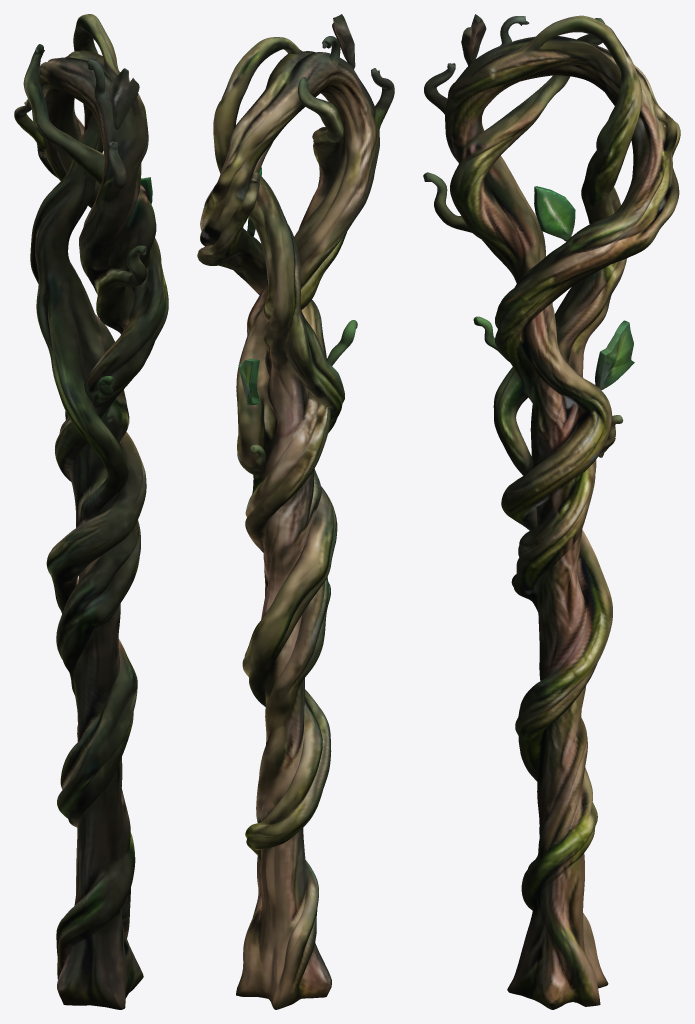
Rendered from staff_fantasy_2.glb.
3 renders of one model, left to right at view 1: azimuth 30°, elevation 25°; view 2: azimuth 150°, elevation 25°; view 3: azimuth 270°, elevation 25°, orthographic. The views are drawn at different scales.
Visible parts, largest first — view 1: staff_fantasy_2.glb_2; view 2: staff_fantasy_2.glb_2; view 3: staff_fantasy_2.glb_2.
Boxes of the visible parts, box(x1,y1,x2,y2) form: staff_fantasy_2.glb_2: box(14, 14, 168, 1009); staff_fantasy_2.glb_2: box(197, 14, 394, 1009); staff_fantasy_2.glb_2: box(423, 14, 680, 1009).
Bounding box in the file's own units: 0.2257 × 1.75 × 0.4164.
1 material, 1 textured.
